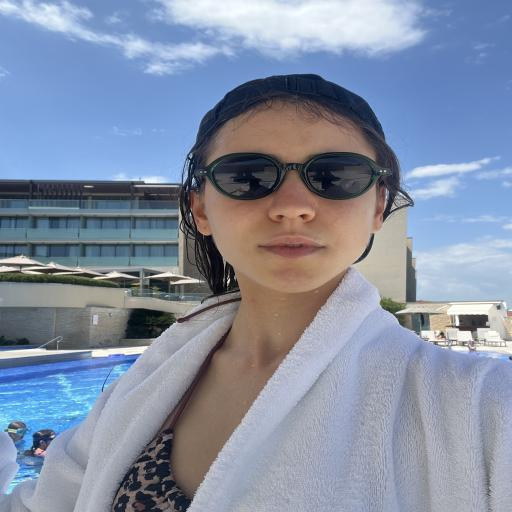masa: (128, 62, 456, 324)
